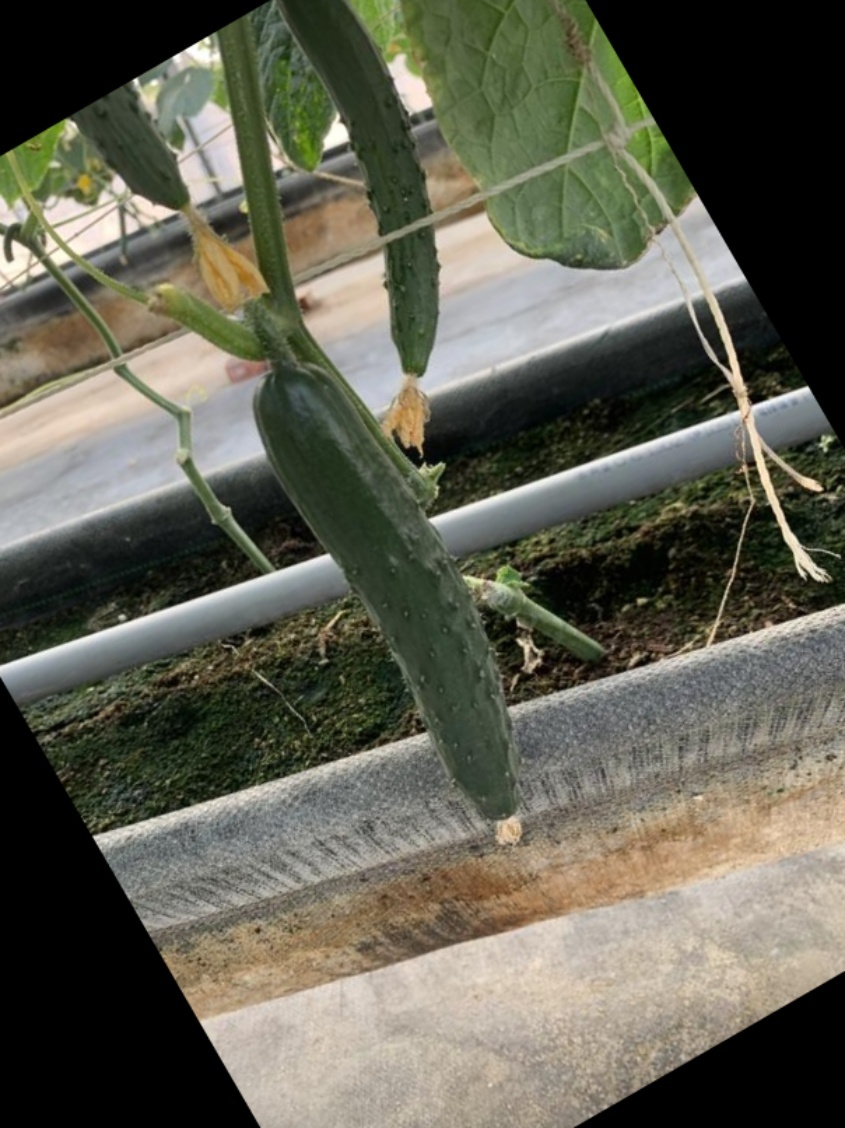mature: (246, 352, 533, 822)
